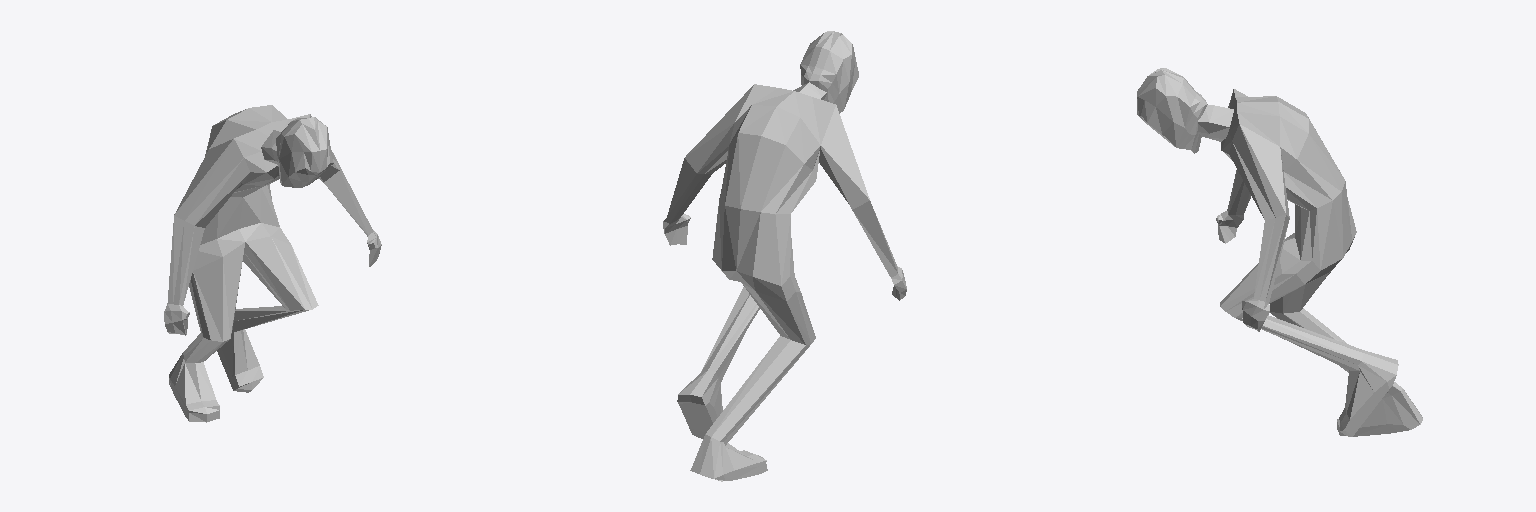
Rendered from enemy.obj.
The picture shows the model from 3 angles: view 1: azimuth 30°, elevation 25°; view 2: azimuth 150°, elevation 25°; view 3: azimuth 270°, elevation 25°; orthographic projection.
Parts seen in each view (by area): view 1: Object_7_Cube__0; view 2: Object_7_Cube__0; view 3: Object_7_Cube__0.
Part boxes in pixels (x1,y1,x2,y2): Object_7_Cube__0: (164,105,381,422); Object_7_Cube__0: (663,31,906,481); Object_7_Cube__0: (1137,68,1422,436).
Size of the model in its own units: 1.66 by 2.52 by 1.79.